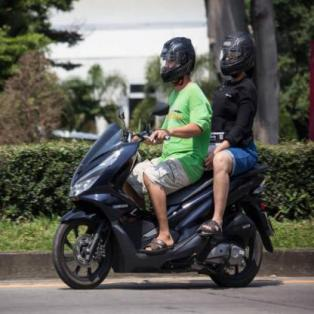Motocicleta: (52, 114, 266, 292)
